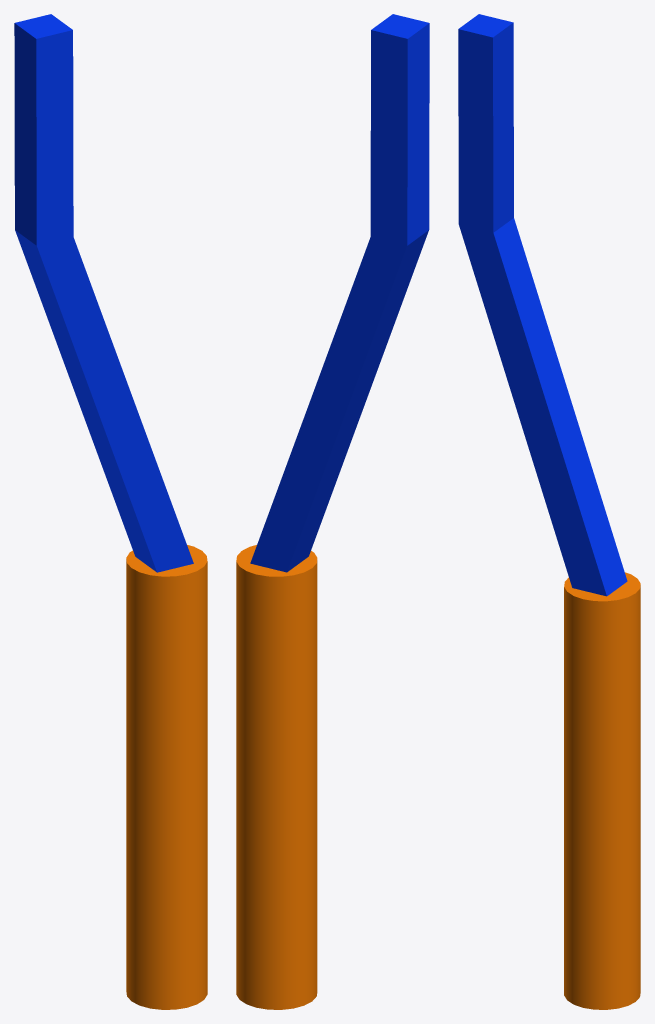
File: Pillar01.FBX
The picture shows the model from 3 angles, left to right: view 1: azimuth 30°, elevation 25°; view 2: azimuth 150°, elevation 25°; view 3: azimuth 330°, elevation 25°; orthographic projection. The views are drawn at different scales.
Parts seen in each view (by area): view 1: polySurface118; view 2: polySurface118; view 3: polySurface118.
Boxes of the visible parts, box(x1,y1,x2,y2) form: polySurface118: box(14, 14, 207, 1009); polySurface118: box(236, 14, 429, 1009); polySurface118: box(458, 14, 640, 1009).
Bounding box in the file's own units: 102 × 549 × 40.74.
